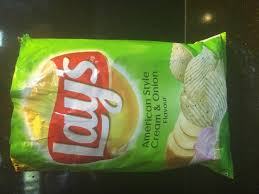lays-small: (14, 40, 231, 168)
